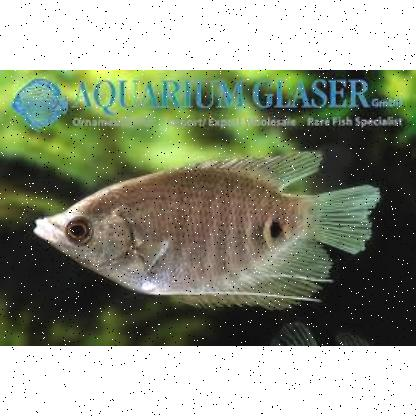gurame: (32, 160, 368, 310)
